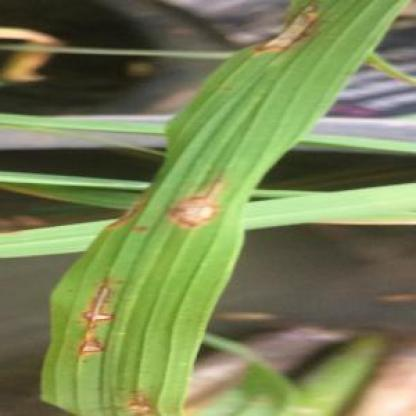Rice blast: (237, 6, 334, 64), (169, 177, 235, 237), (72, 274, 113, 370)
